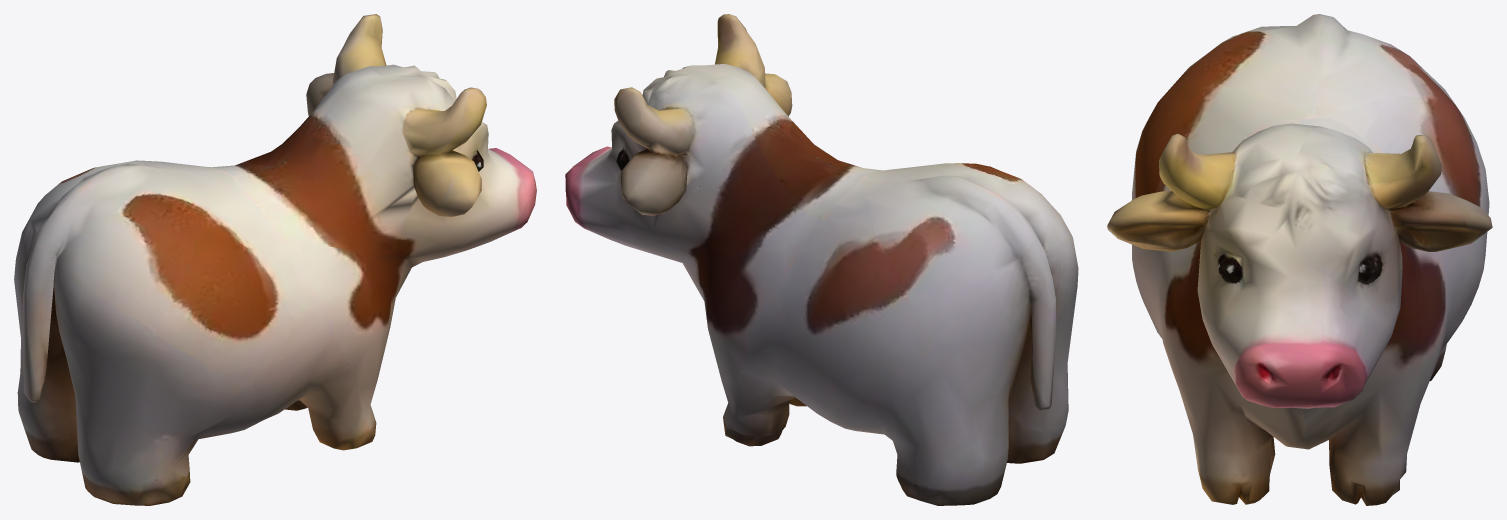
File: cow.glb
3 views of the same model, side by side, from view 1: azimuth 30°, elevation 25°; view 2: azimuth 150°, elevation 25°; view 3: azimuth 270°, elevation 25° (orthographic). The views are drawn at different scales.
Visible parts, largest first — view 1: tripo_node_d679e20d-3a3f-4590-8224-db29581f6020; view 2: tripo_node_d679e20d-3a3f-4590-8224-db29581f6020; view 3: tripo_node_d679e20d-3a3f-4590-8224-db29581f6020.
Part boxes in pixels (x1,y1,x2,y2): tripo_node_d679e20d-3a3f-4590-8224-db29581f6020: (14, 14, 536, 505); tripo_node_d679e20d-3a3f-4590-8224-db29581f6020: (565, 14, 1078, 505); tripo_node_d679e20d-3a3f-4590-8224-db29581f6020: (1107, 14, 1492, 505).
Size of the model in its own units: 0.996 by 0.6652 by 0.5582.
Materials: 1 (1 with a texture image).
